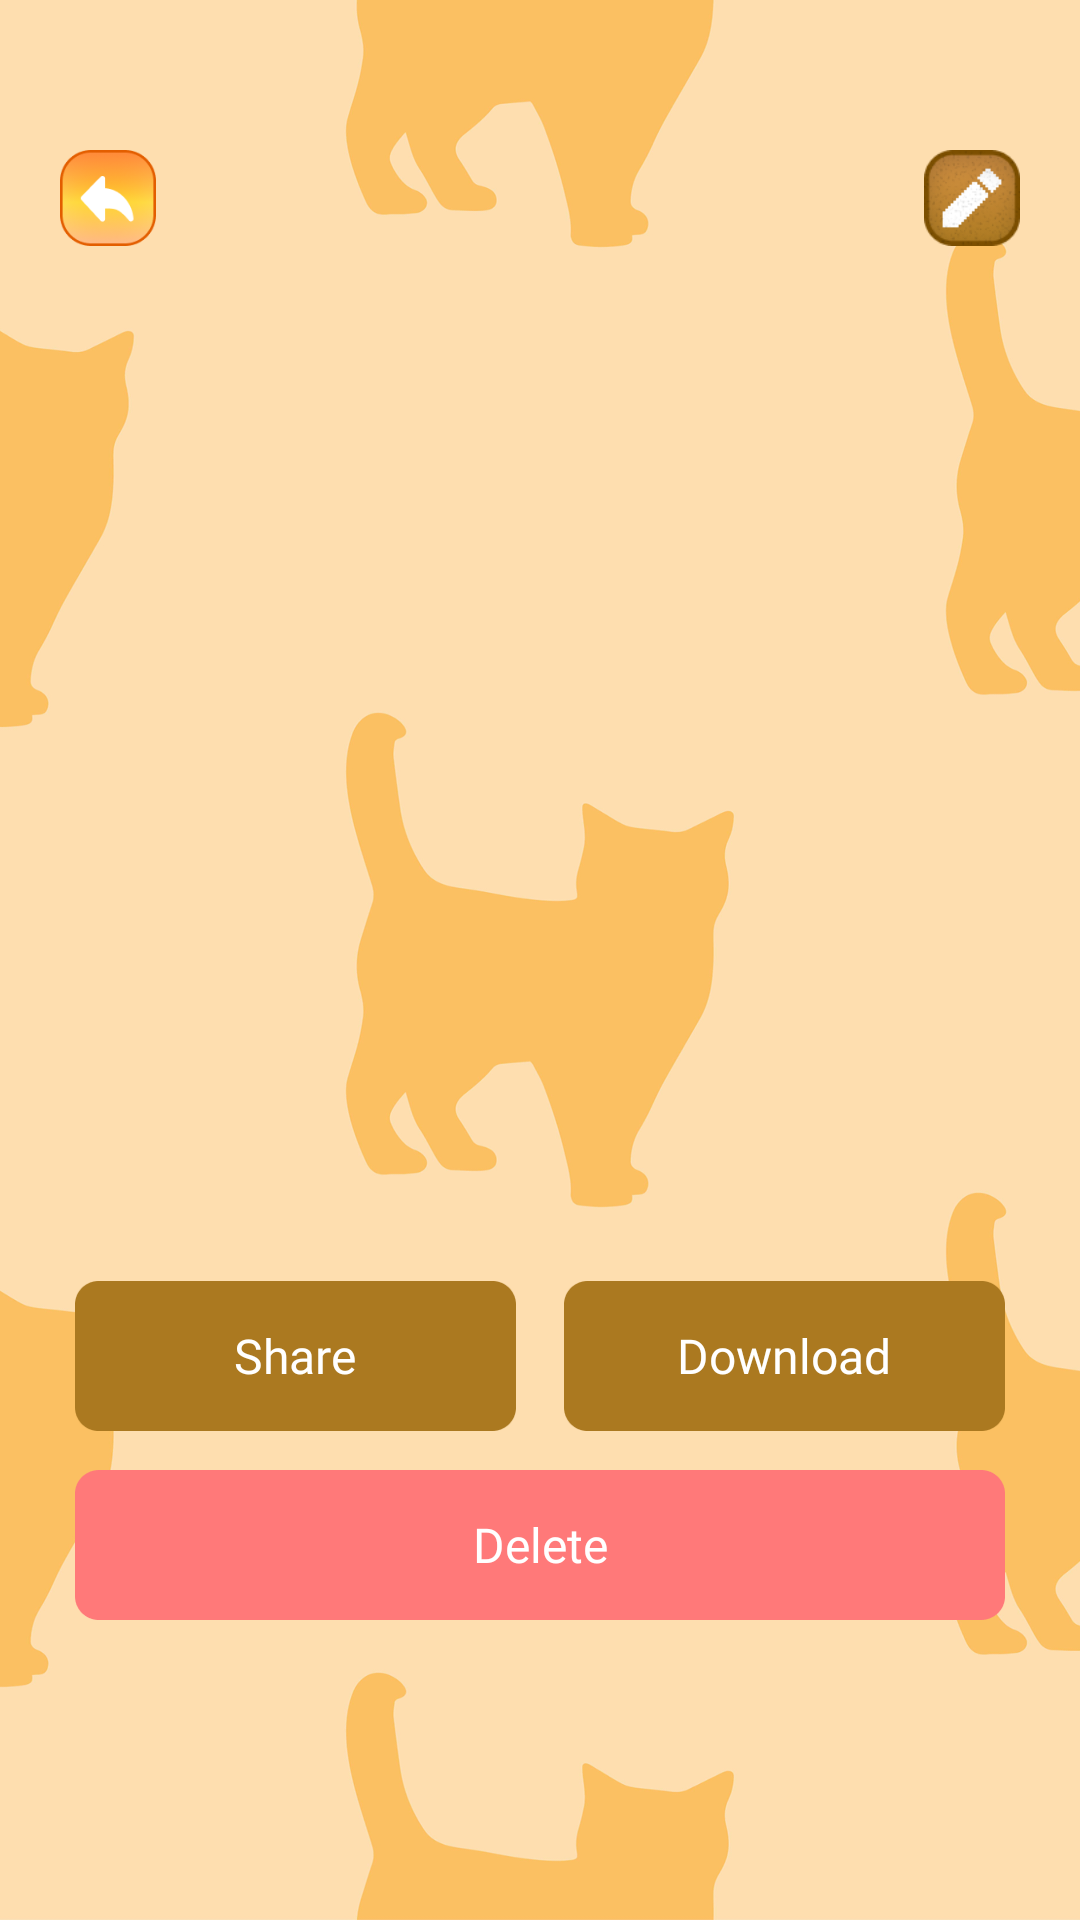

Screen size 1080 × 1920. Icon name, then its center in pixels as point (x, y):
back app: point (108, 198)
imv edit: point (972, 198)
